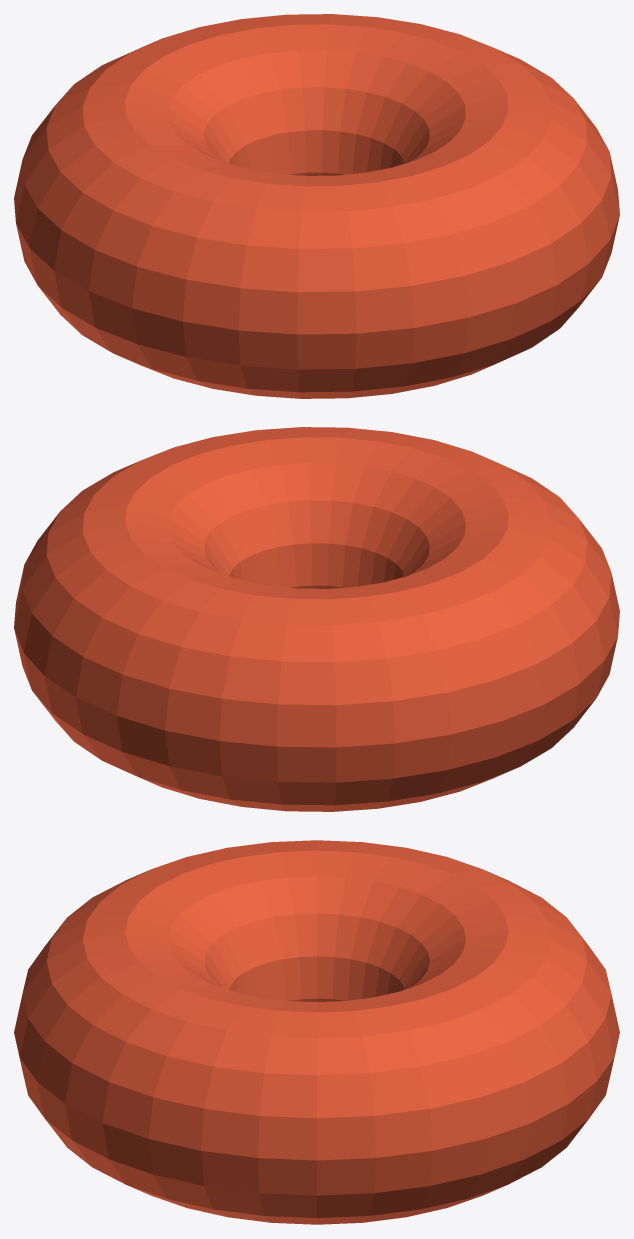
File: 09_torus_blender.glb
3 renders of one model, top to bottom at view 1: azimuth 30°, elevation 25°; view 2: azimuth 150°, elevation 25°; view 3: azimuth 270°, elevation 25°, orthographic.
Parts seen in each view (by area): view 1: Torus.001; view 2: Torus.001; view 3: Torus.001.
Part boxes in pixels (x1,y1,x2,y2): Torus.001: [14, 14, 619, 398]; Torus.001: [14, 427, 619, 811]; Torus.001: [14, 840, 619, 1224].
Bounding box in the file's own units: 1.36 × 0.5 × 1.36.
